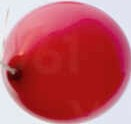Balloon: (1, 1, 131, 123)
